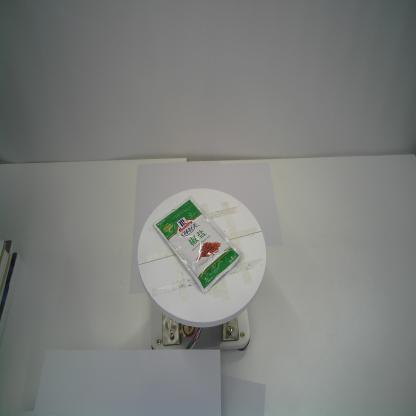Seasoner: (151, 196, 242, 294)
